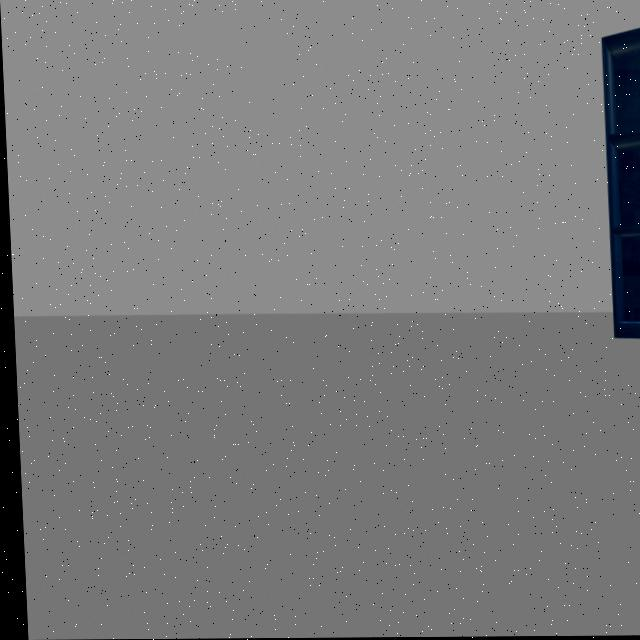shelf: (587, 18, 640, 351)
